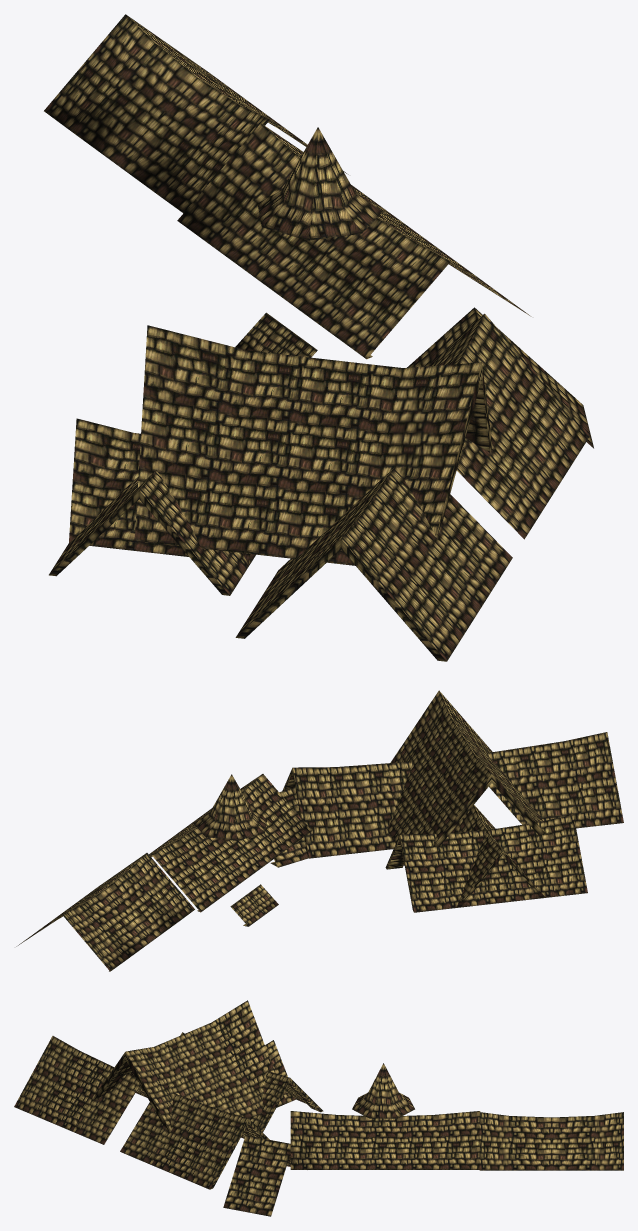
Rendered from LAKETOWN_EXTERIOR_PS_LT_ROOFS2267.fbx.
3 renders of one model, top to bottom at view 1: azimuth 30°, elevation 25°; view 2: azimuth 150°, elevation 25°; view 3: azimuth 270°, elevation 25°, orthographic. The views are drawn at different scales.
Visible parts, largest first — view 1: LAKETOWN_EXTERIOR_PS_LT_ROOFS2267; view 2: LAKETOWN_EXTERIOR_PS_LT_ROOFS2267; view 3: LAKETOWN_EXTERIOR_PS_LT_ROOFS2267.
Part boxes in pixels (x1,y1,x2,y2): LAKETOWN_EXTERIOR_PS_LT_ROOFS2267: [44, 14, 593, 661]; LAKETOWN_EXTERIOR_PS_LT_ROOFS2267: [16, 690, 623, 971]; LAKETOWN_EXTERIOR_PS_LT_ROOFS2267: [14, 1000, 623, 1216].
Bounding box in the file's own units: 256309 × 96746 × 458611.
Materials: 1 (1 with a texture image).
